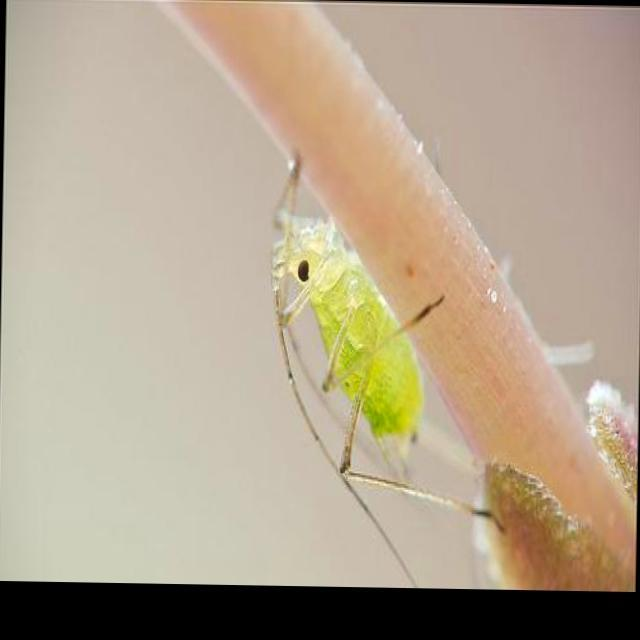aphid: (256, 161, 484, 552)
